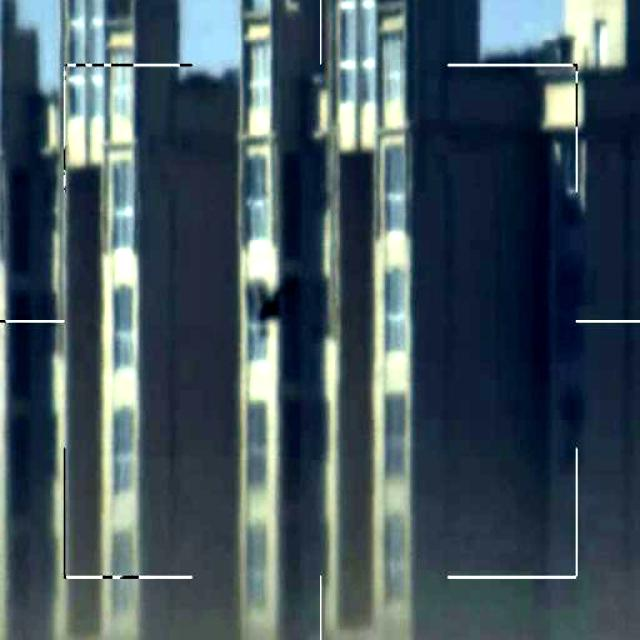bird: (245, 264, 302, 342)
